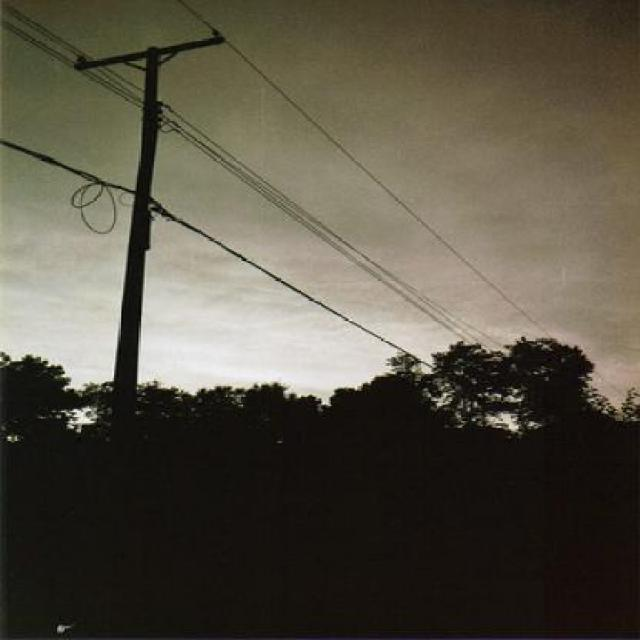pole: (35, 34, 233, 386)
